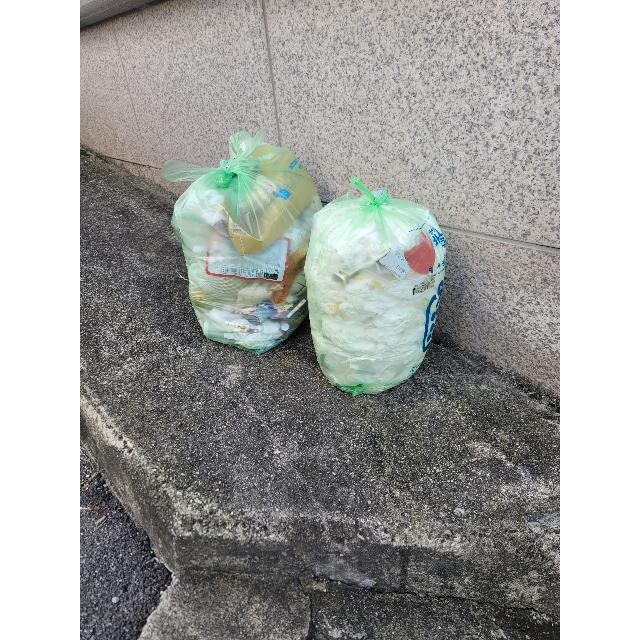general_trashbag: (160, 115, 322, 357), (306, 182, 451, 392)
